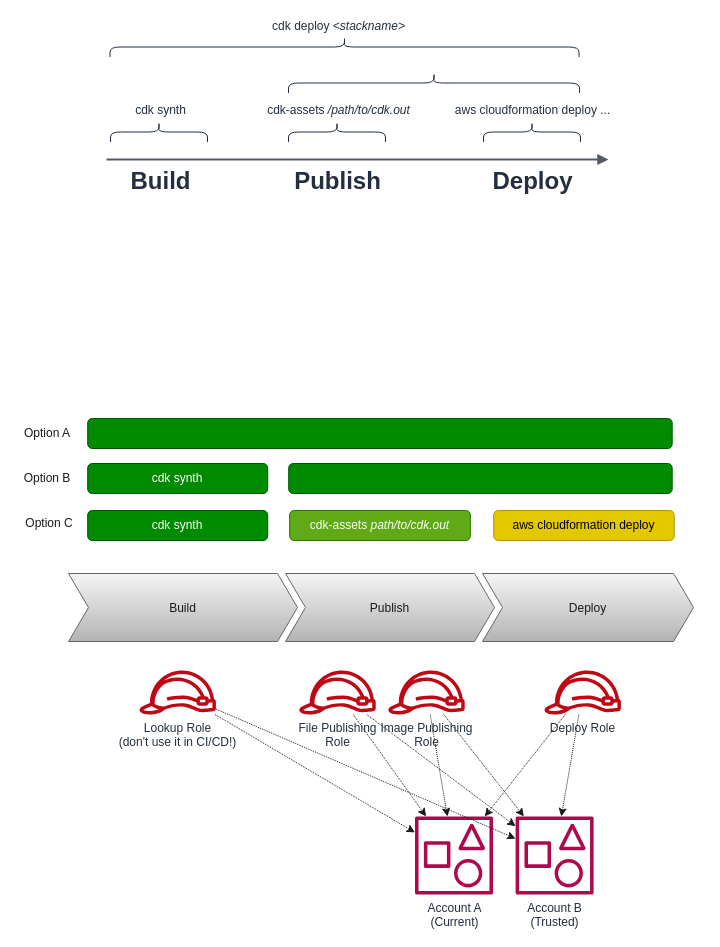
Image size: 720x947. Some labels were removed from this diagram. Each missing label, with the centre of its shape:
"cdk deploy --app /path/to/cdk.out" belongs at (434,82).
"cdk deploy --app path/to/cdk.out" belongs at (480,478).
"cdk deploy <stackname> or --all" belongs at (379,433).
